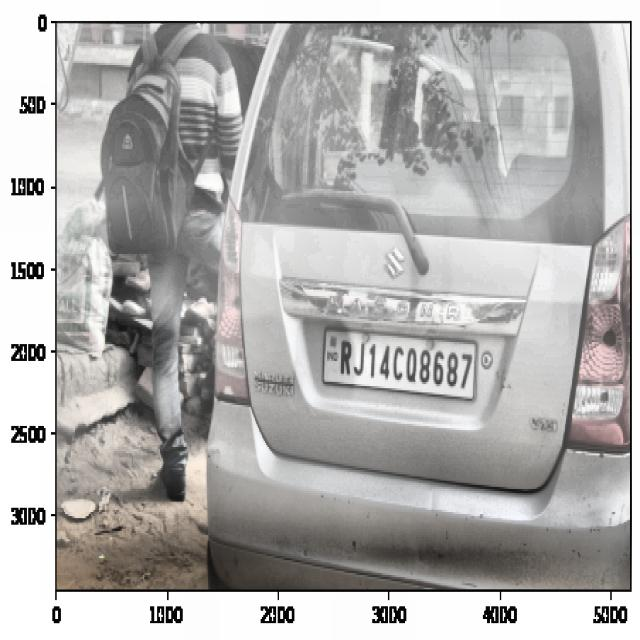license_plate: (330, 332, 478, 401)
